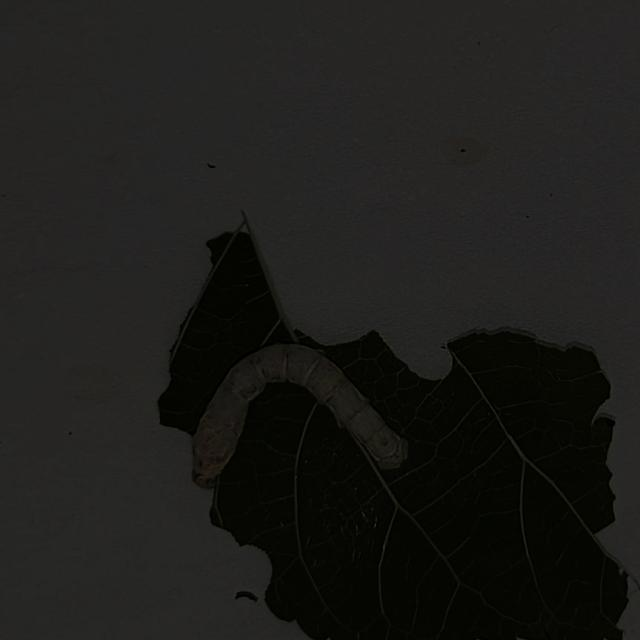Healthy: (180, 321, 418, 500)
